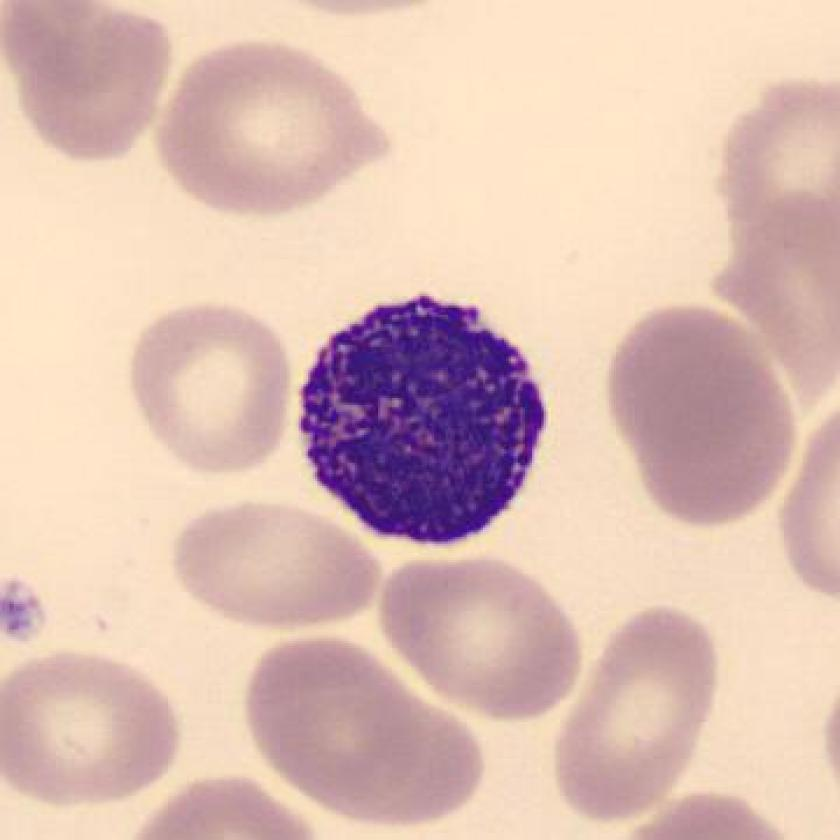basophil: (288, 288, 552, 552)
